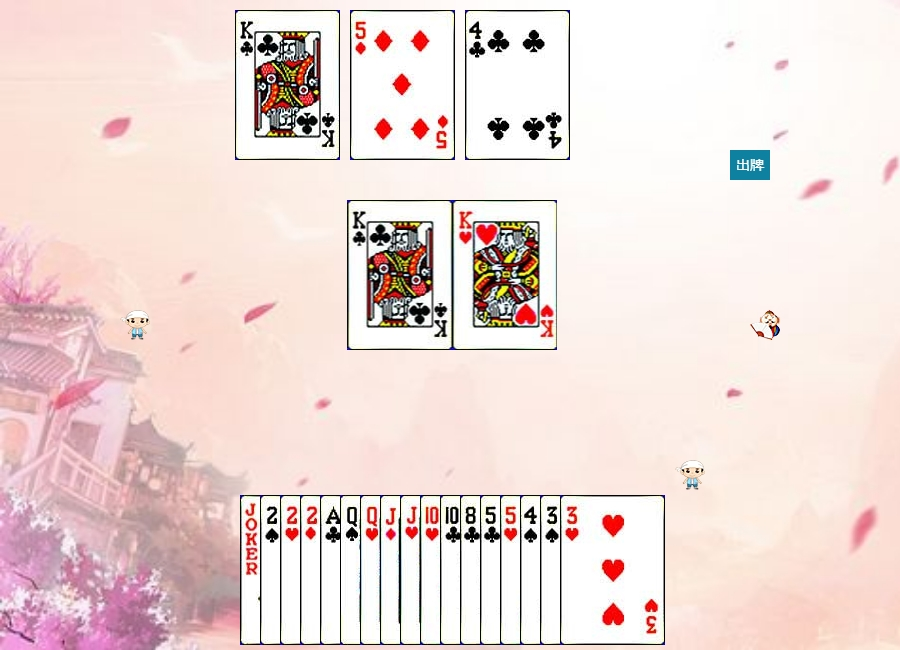10~2: (440, 495, 545, 645)
10~3: (420, 495, 525, 645)
11~1: (380, 495, 485, 645)
11~3: (400, 495, 505, 645)
12~3: (360, 495, 465, 645)
12~4: (340, 495, 445, 645)
13~2: (235, 10, 340, 160), (348, 200, 453, 350)
13~3: (453, 200, 558, 350)
14~2: (320, 495, 425, 645)
15~1: (300, 495, 405, 645)
15~3: (280, 495, 385, 645)
15~4: (260, 495, 365, 645)
18~4: (240, 495, 345, 645)
3~3: (560, 495, 665, 645)
3~4: (540, 495, 645, 645)
4~2: (465, 10, 570, 160)
4~4: (520, 495, 625, 645)
5~1: (350, 10, 455, 160)
5~2: (480, 495, 585, 645)
5~3: (500, 495, 605, 645)
8~2: (460, 495, 565, 645)
